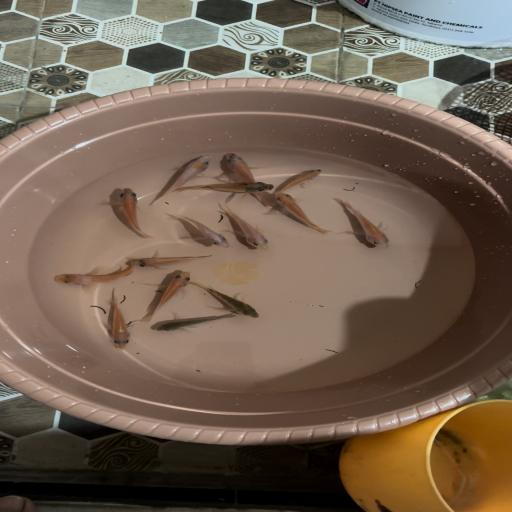nila: (330, 197, 406, 251), (103, 184, 163, 240), (212, 204, 273, 254), (199, 282, 263, 326), (158, 151, 214, 199), (92, 290, 136, 350), (47, 262, 143, 289), (218, 149, 268, 200), (142, 272, 191, 322), (274, 193, 331, 235), (154, 314, 240, 340), (172, 217, 232, 252), (177, 180, 274, 201), (126, 250, 224, 270), (276, 169, 333, 191)
